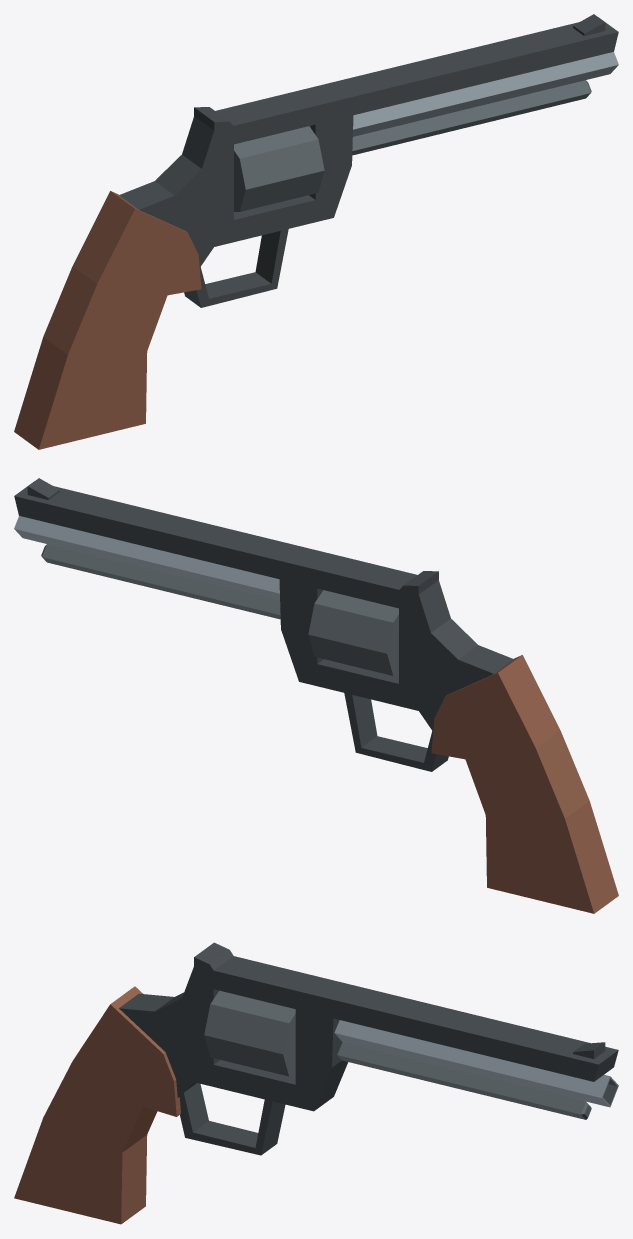
The model's file is 3d-weapons-pack--revolver-python.glb.
3 renders of one model, top to bottom at view 1: azimuth 30°, elevation 25°; view 2: azimuth 150°, elevation 25°; view 3: azimuth 330°, elevation 25°, orthographic.
Parts seen in each view (by area): view 1: body_Cube.002, revolver_Cube.004; view 2: body_Cube.002, revolver_Cube.004; view 3: body_Cube.002, revolver_Cube.004.
Part boxes in pixels (x1=…): body_Cube.002: x1=14, y1=14, x2=618, y2=449; revolver_Cube.004: x1=234, y1=126, x2=324, y2=211; body_Cube.002: x1=14, y1=478, x2=618, y2=913; revolver_Cube.004: x1=308, y1=590, x2=398, y2=675; body_Cube.002: x1=14, y1=942, x2=618, y2=1224; revolver_Cube.004: x1=204, y1=990, x2=295, y2=1076.
Size of the model in its own units: 0.2487 by 0.1151 by 0.0307.
